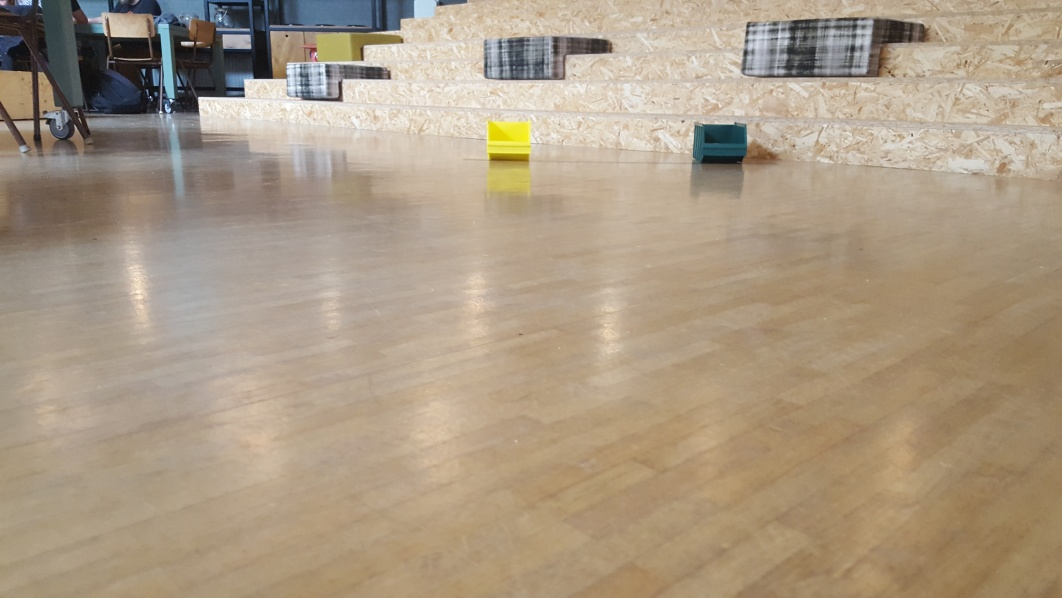tray: (688, 116, 752, 167), (481, 116, 534, 163)
